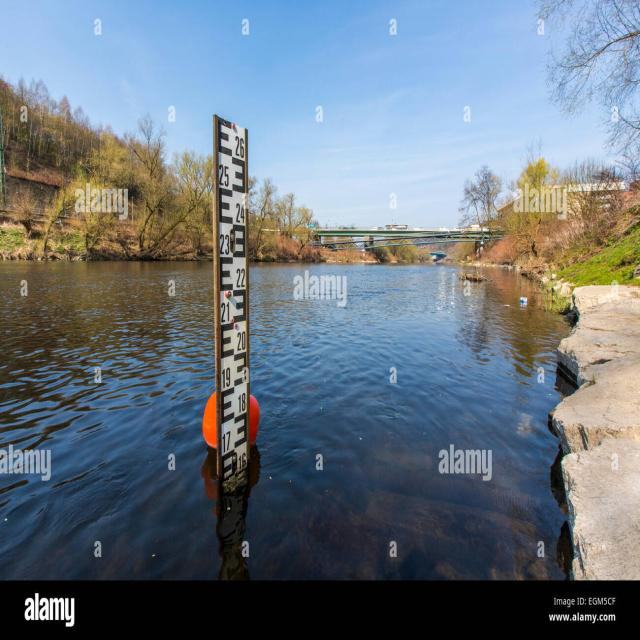ruler: (209, 109, 253, 493)
value: (219, 428, 235, 458), (232, 128, 247, 160), (220, 361, 235, 391), (233, 200, 249, 226), (218, 162, 232, 190), (234, 264, 248, 290), (219, 232, 233, 258), (220, 298, 233, 326), (234, 329, 248, 355), (236, 388, 249, 414)
